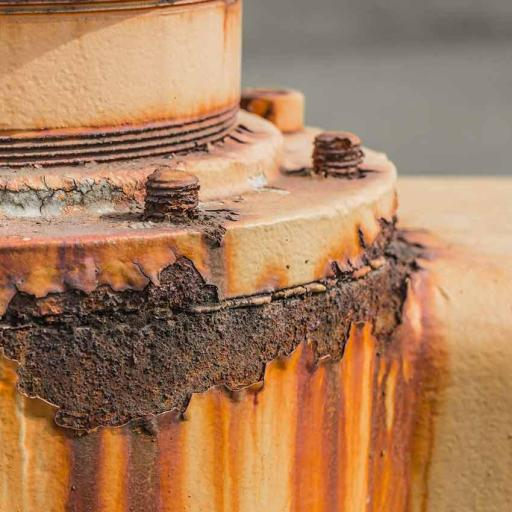segmentation: (0, 155, 450, 468), (0, 322, 433, 511), (206, 151, 410, 296), (0, 194, 212, 308), (0, 100, 242, 176), (240, 88, 304, 133), (145, 168, 200, 218), (68, 432, 102, 512), (312, 131, 364, 179), (138, 421, 158, 488)
